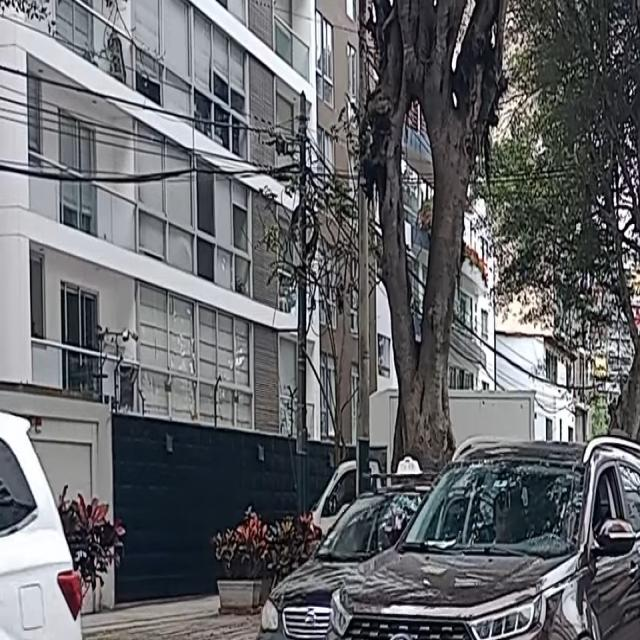car: (314, 441, 640, 640), (256, 483, 424, 640), (0, 400, 83, 640), (0, 605, 144, 640)
